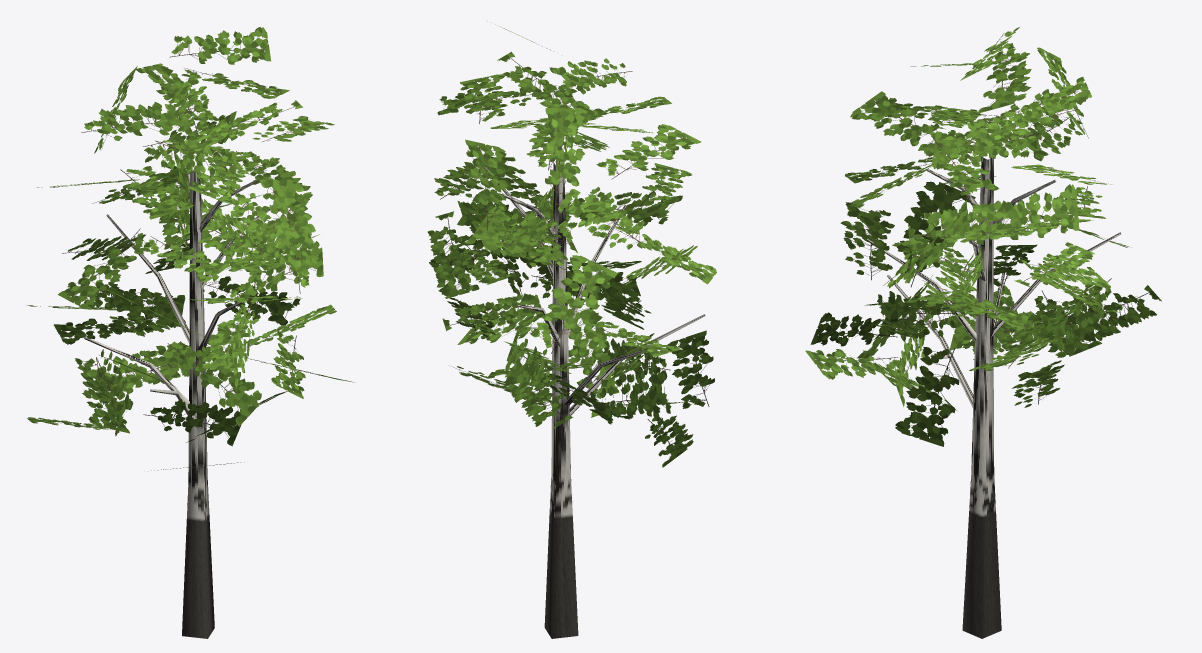
Rendered from mid.glb.
3 renders of one model, left to right at view 1: azimuth 30°, elevation 25°; view 2: azimuth 150°, elevation 25°; view 3: azimuth 270°, elevation 25°, orthographic. The views are drawn at different scales.
Visible parts, largest first — view 1: birch_02; view 2: birch_02; view 3: birch_02.
Part boxes in pixels (box(x1,y1,x2,y2)): birch_02: box(26, 27, 354, 638); birch_02: box(427, 22, 716, 638); birch_02: box(805, 27, 1161, 638).
Size of the model in its own units: 9.96 by 18.73 by 11.13.
2 materials, 2 textured.
